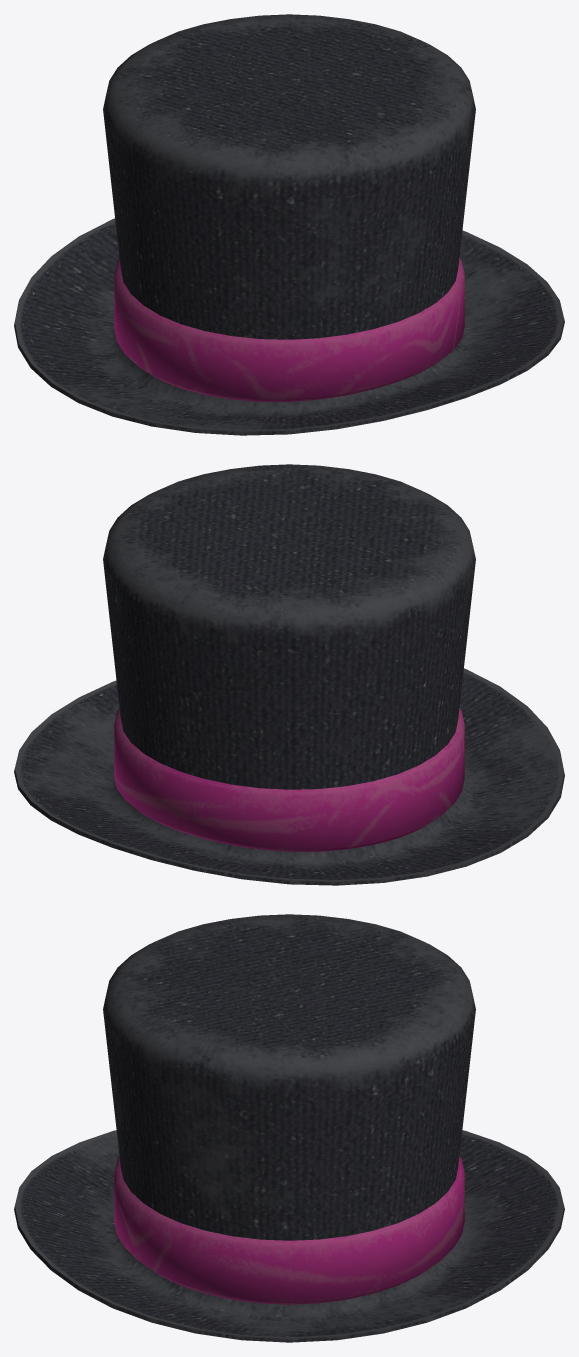
3 views of the same model, one above another, from view 1: azimuth 30°, elevation 25°; view 2: azimuth 150°, elevation 25°; view 3: azimuth 270°, elevation 25° (orthographic).
Visible parts, largest first — view 1: Hat; view 2: Hat; view 3: Hat.
Part boxes in pixels (box(x1,y1,x2,y2)): Hat: box(14, 14, 564, 435); Hat: box(14, 464, 564, 885); Hat: box(14, 914, 564, 1342).
Size of the model in its own units: 2 by 1.04 by 2.
Materials: 1 (1 with a texture image).
